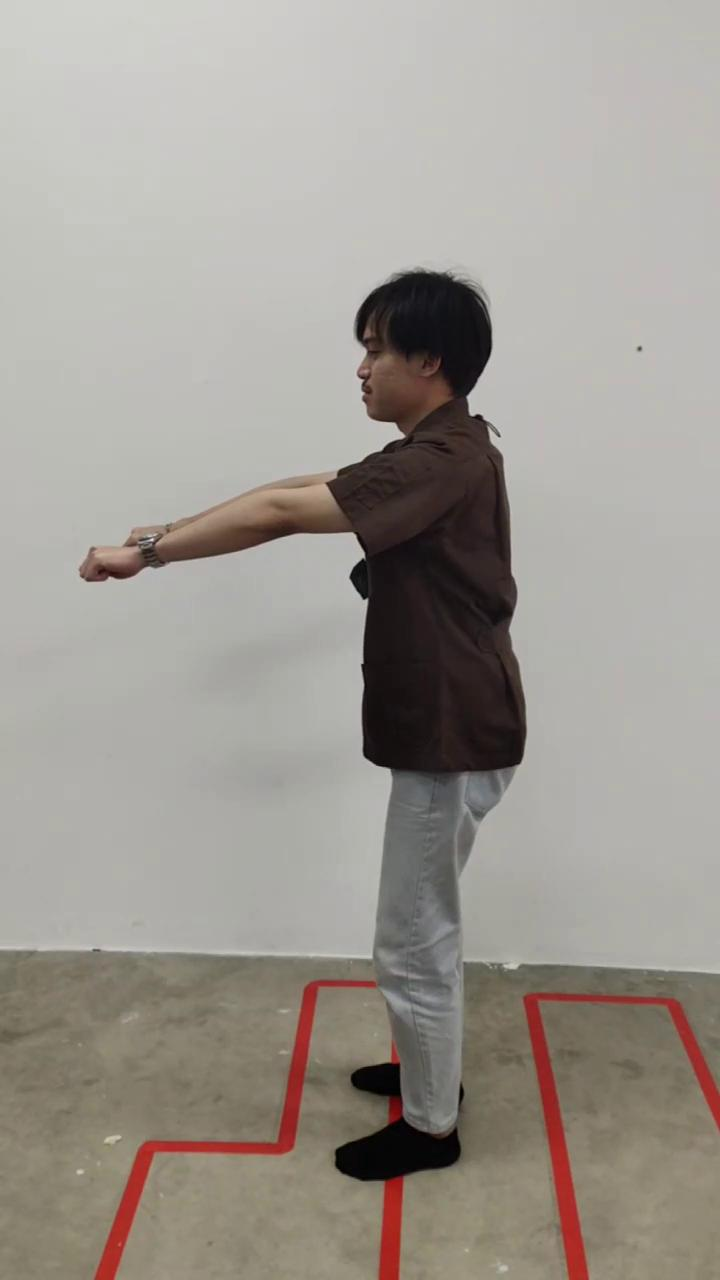squat up: (80, 270, 525, 1180)
